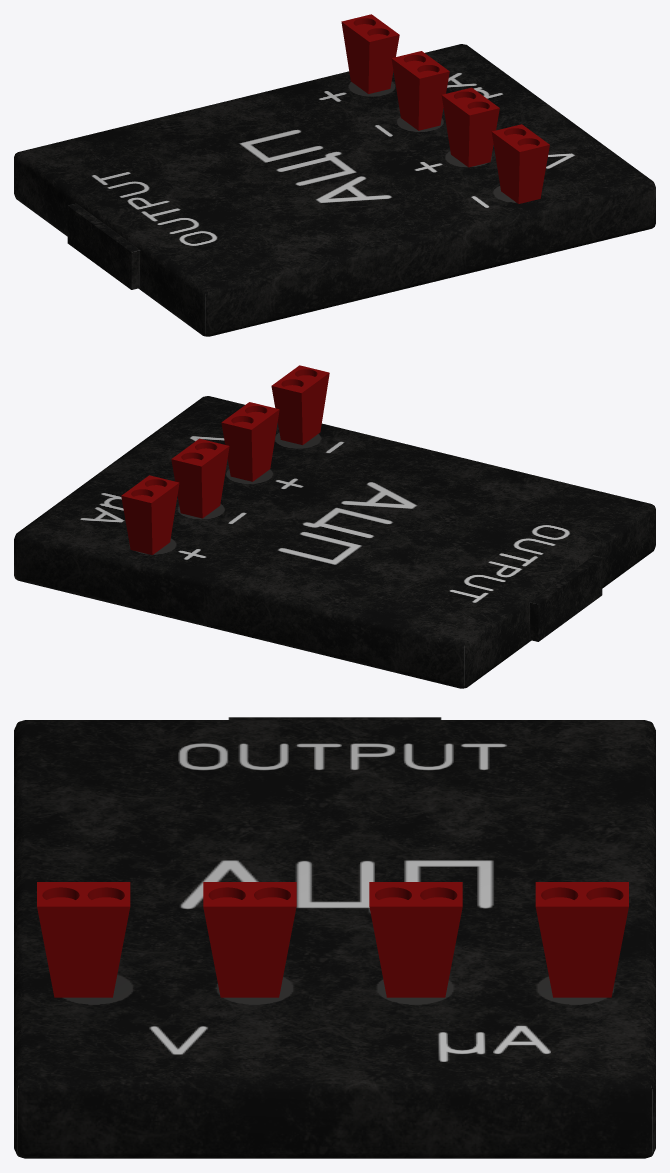
Rendered from Converter.fbx.
3 views of the same model, one above another, from view 1: azimuth 30°, elevation 25°; view 2: azimuth 150°, elevation 25°; view 3: azimuth 270°, elevation 25° (orthographic). The views are drawn at different scales.
Visible parts, largest first — view 1: Converter, Cube.002, Output.002; view 2: Converter, Cube.002, Output.002; view 3: Converter, Cube.002, Output.002.
Boxes of the visible parts, x1,y1,x2,y2 form: Converter: (14, 44, 655, 336); Cube.002: (341, 14, 549, 203); Output.002: (67, 203, 140, 289); Converter: (14, 396, 655, 688); Cube.002: (121, 365, 329, 554); Output.002: (529, 555, 602, 641); Converter: (14, 720, 655, 1158); Cube.002: (37, 882, 628, 997); Output.002: (228, 717, 441, 719).
Bounding box in the file's own units: 204 × 44.12 × 148.
